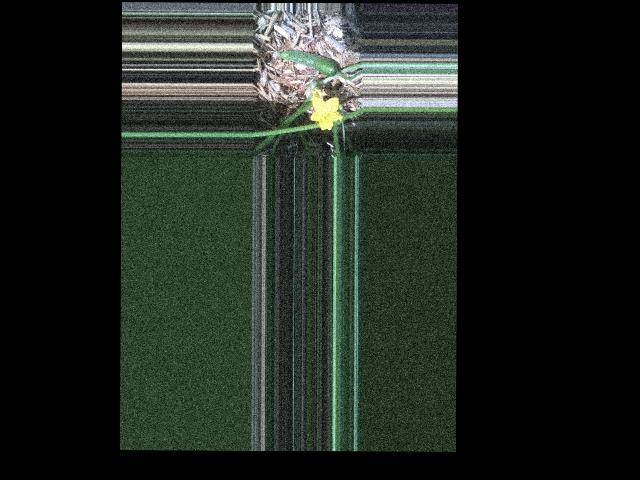cucumber: (274, 49, 339, 76)
